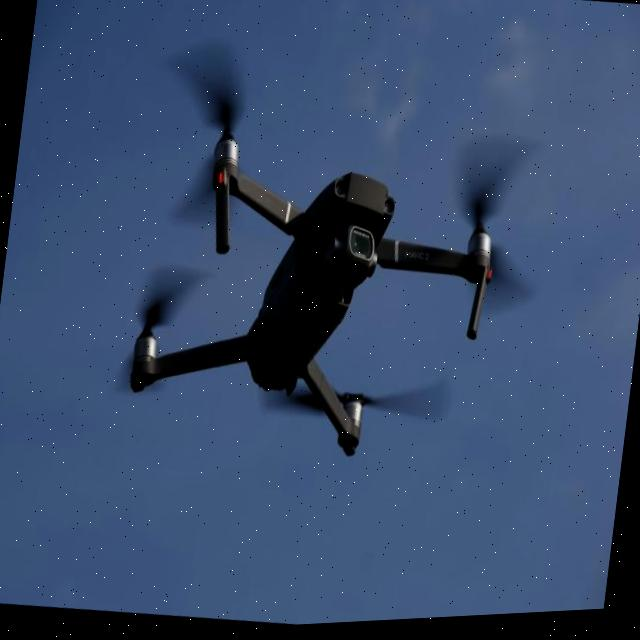drone: (80, 29, 562, 501)
